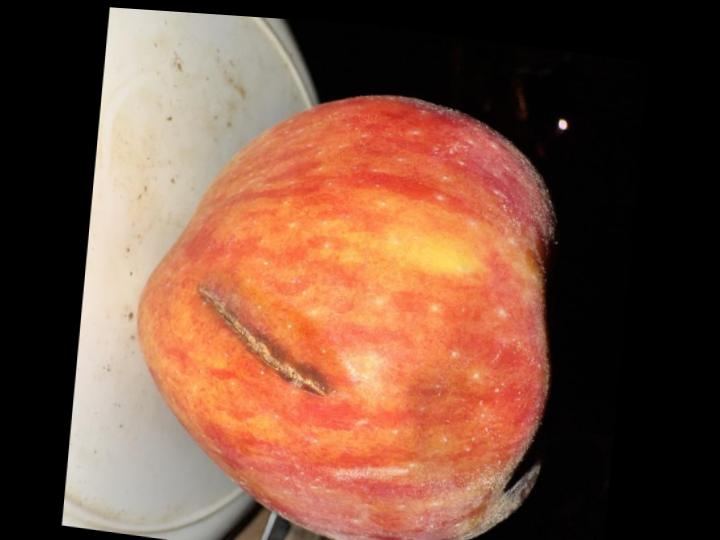apple: (137, 97, 552, 540)
surface_damage: (194, 283, 329, 399)
